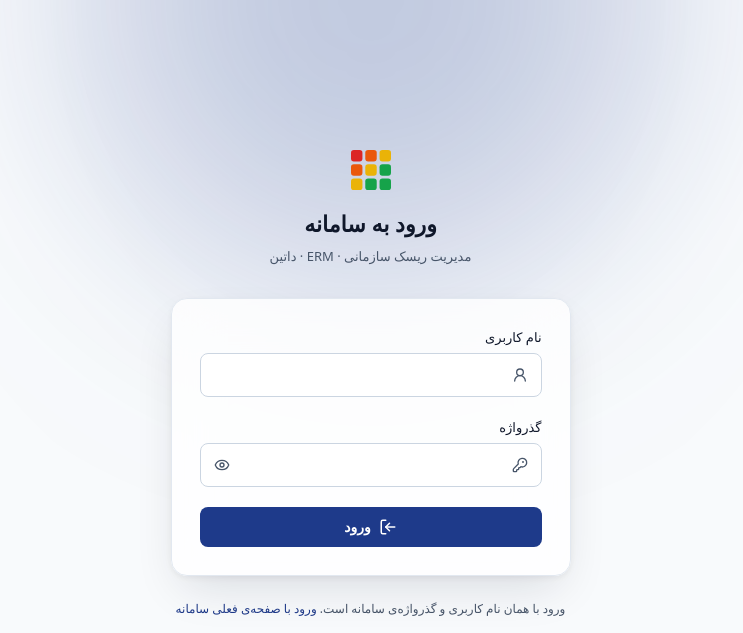
Test case: LoginPage › toggles password visibility with a pressed state
Click the button named "نمایش گذرواژه": (222, 465) left=206, top=449, right=238, bottom=481
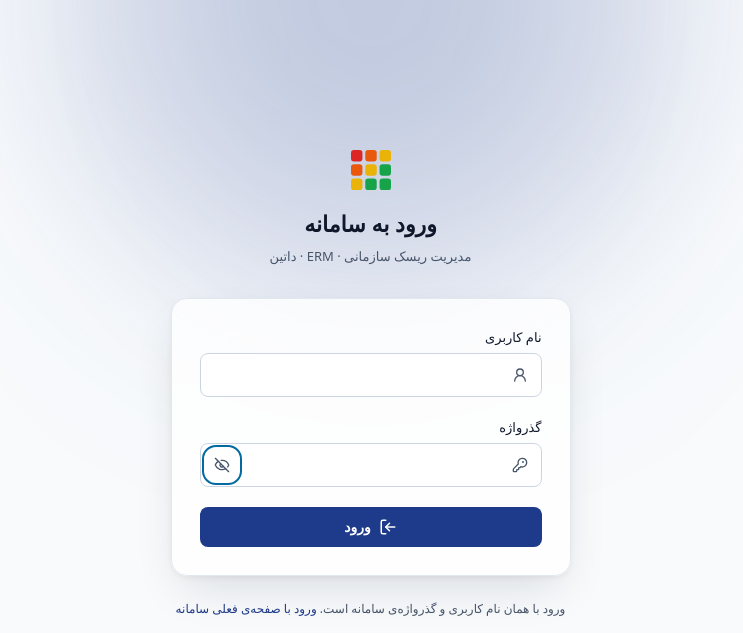
Result: the button named "پنهان کردن گذرواژه" is pressed at left=206, top=449, right=238, bottom=481
